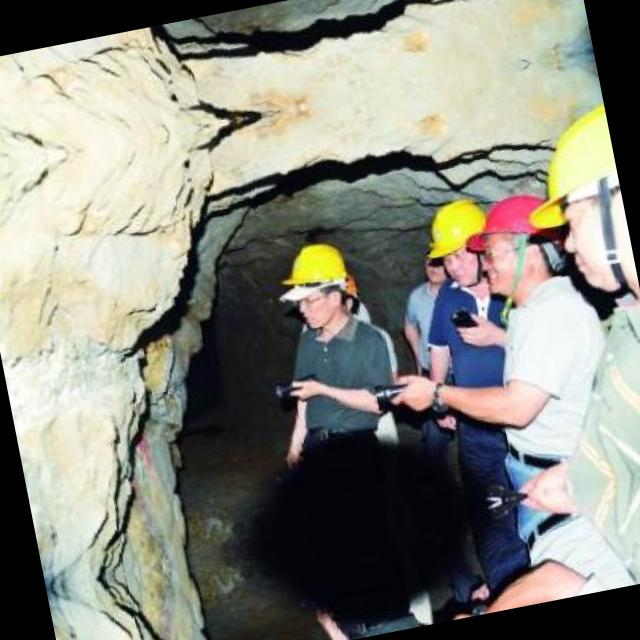helmet: (528, 100, 638, 312), (464, 190, 565, 290), (273, 233, 362, 336), (417, 192, 493, 290), (498, 0, 583, 17)
